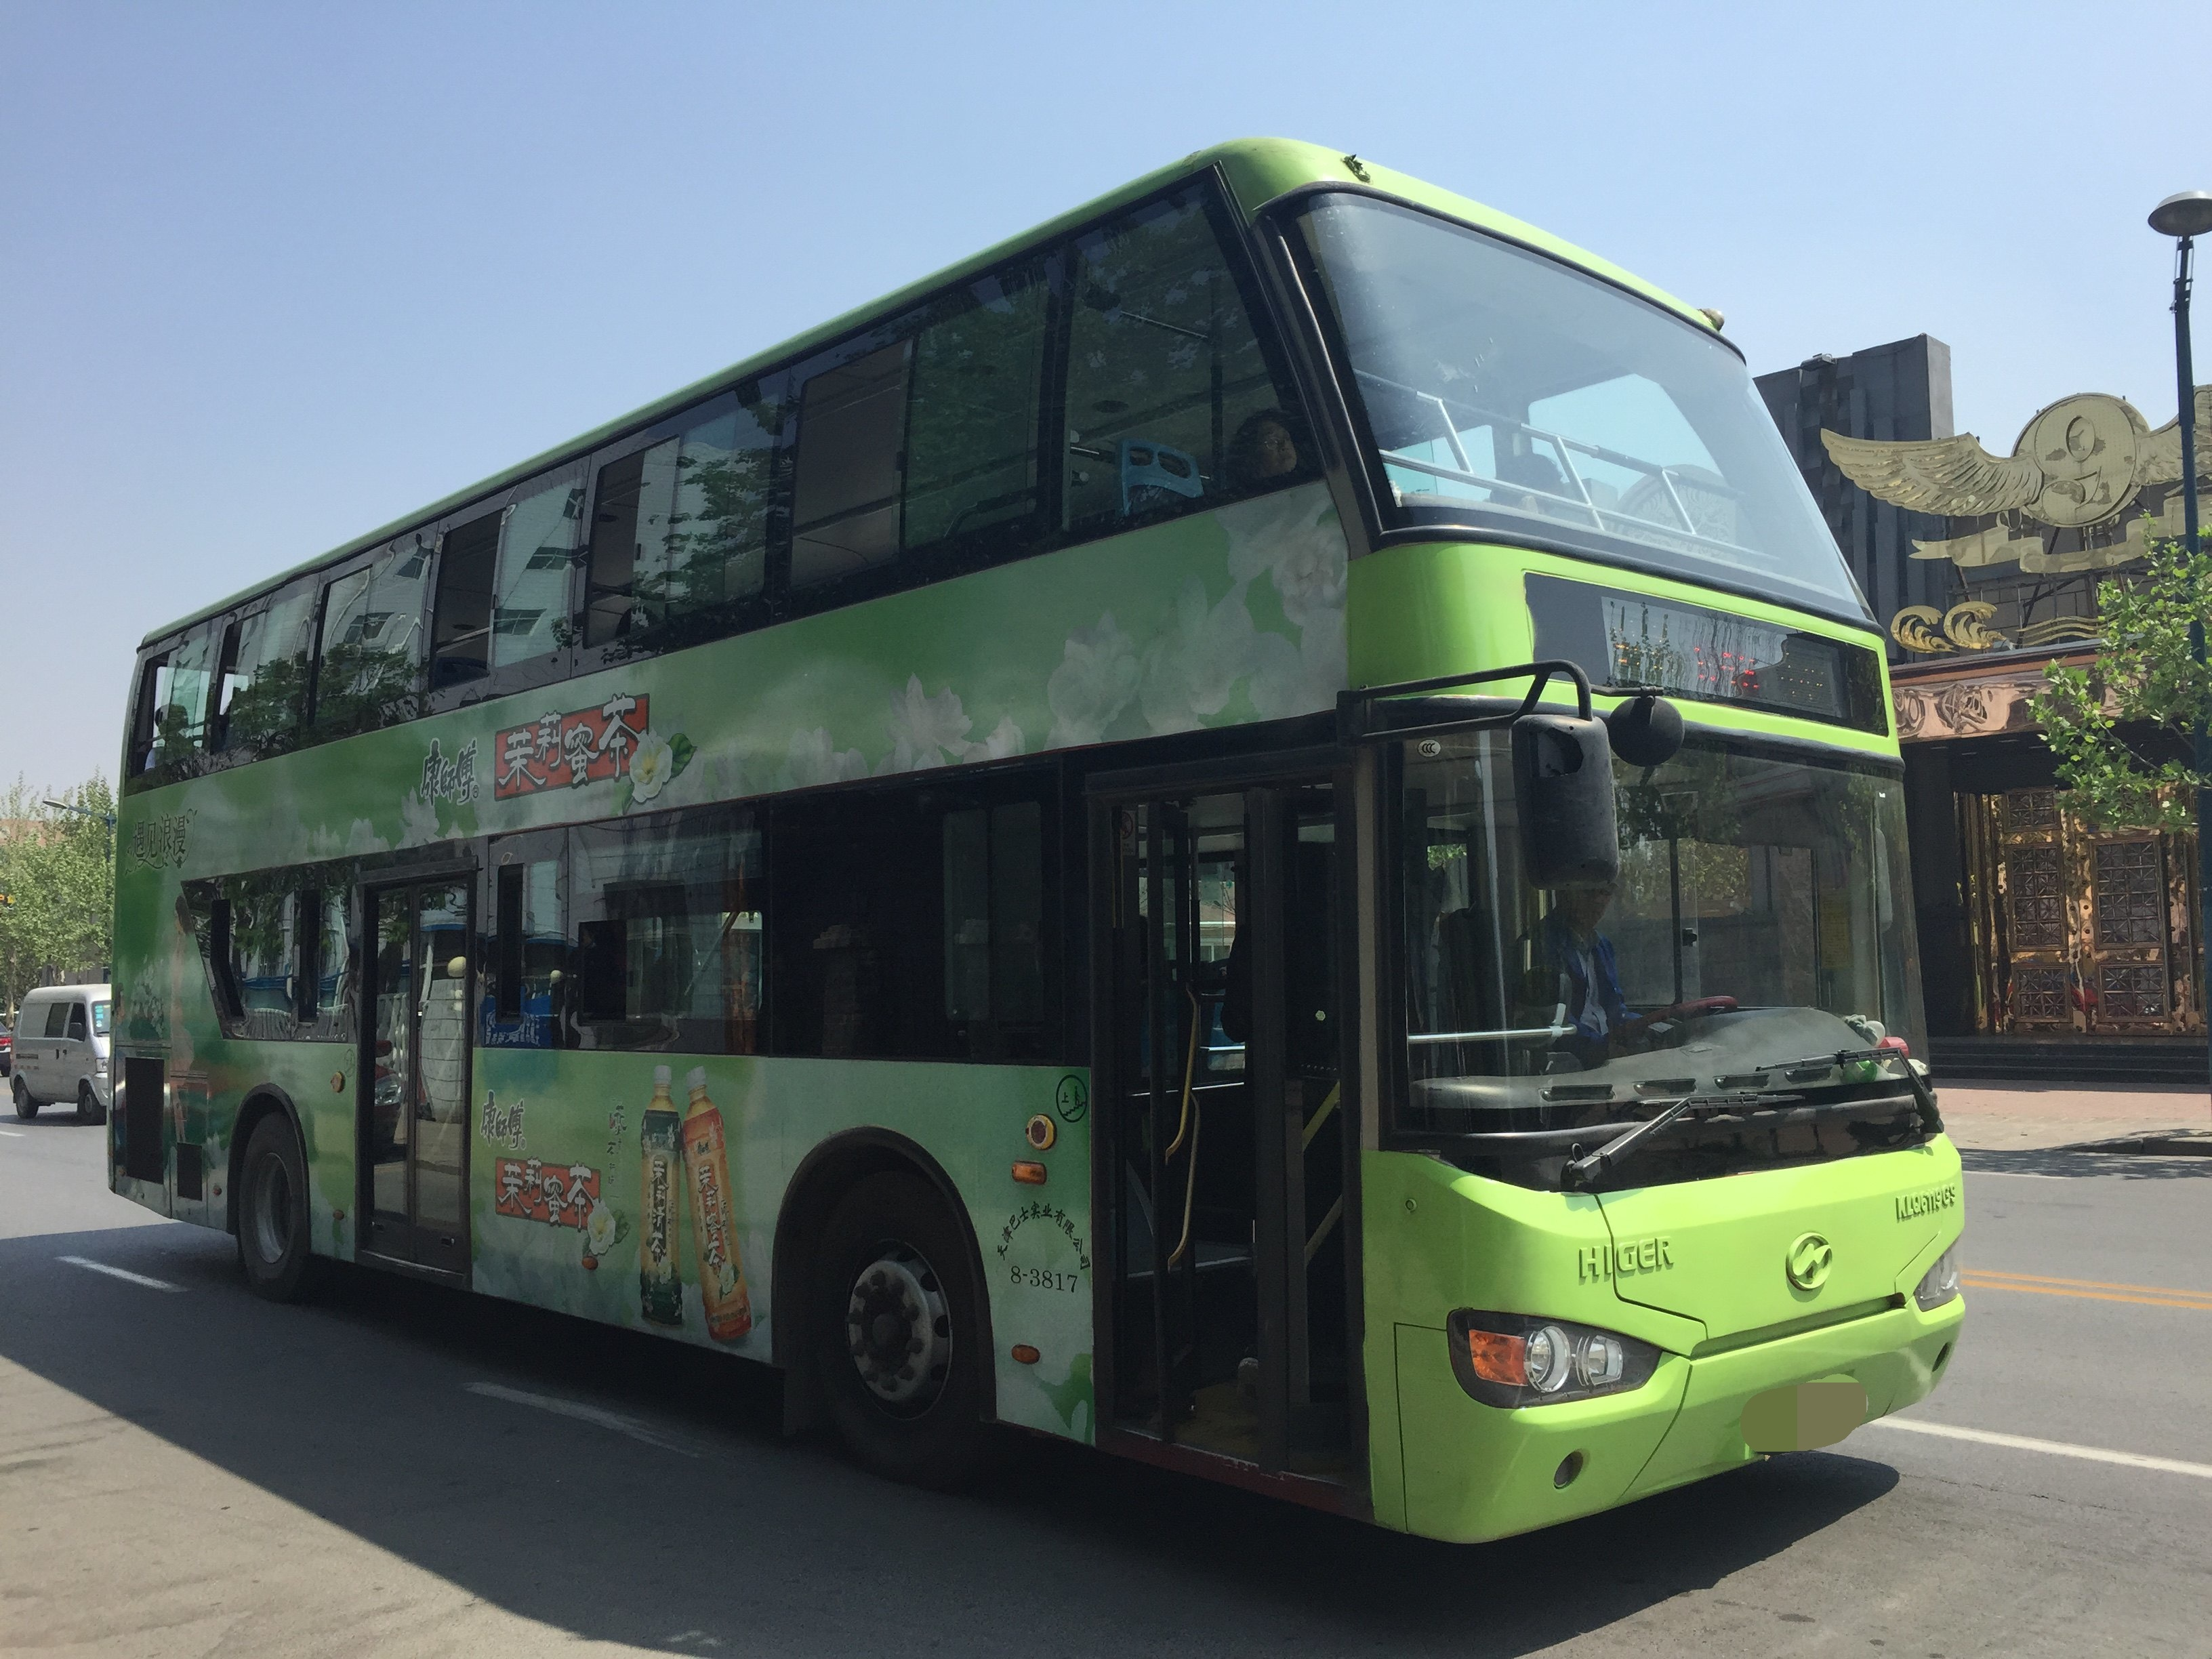bus: (105, 138, 1972, 1549)
